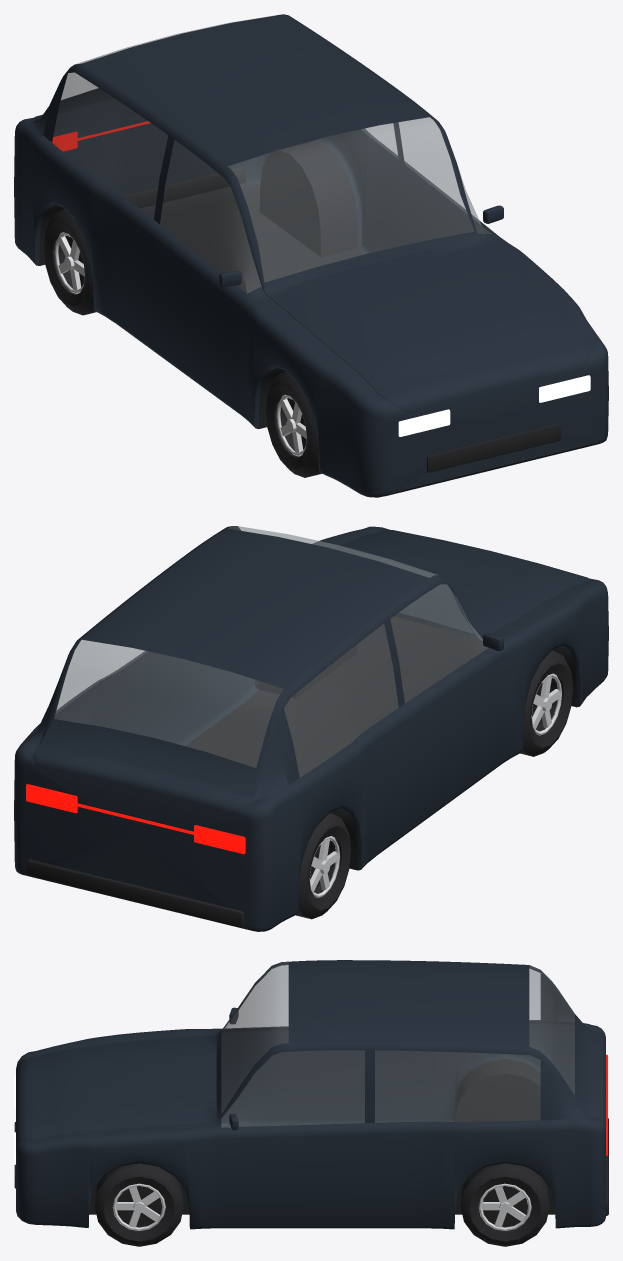
3 renders of one model, top to bottom at view 1: azimuth 30°, elevation 25°; view 2: azimuth 150°, elevation 25°; view 3: azimuth 270°, elevation 25°, orthographic. The views are drawn at different scales.
Parts seen in each view (by area): view 1: hatch, glass, wheel_fr, wheel_rr, headlights; view 2: hatch, glass, wheel_rr, wheel_fr, taillights; view 3: hatch, glass, wheel_rl, wheel_fl.
Boxes of the visible parts, <box> form: hatch: <box>14,14,608,497</box>; glass: <box>52,15,490,293</box>; wheel_fr: <box>265,371,321,477</box>; wheel_rr: <box>43,209,96,315</box>; headlights: <box>398,375,590,436</box>; hatch: <box>14,526,608,931</box>; glass: <box>54,526,487,777</box>; wheel_rr: <box>296,813,351,919</box>; wheel_fr: <box>520,650,573,756</box>; taillights: <box>26,784,245,854</box>; hatch: <box>14,960,608,1229</box>; glass: <box>221,962,574,1127</box>; wheel_rl: <box>460,1163,549,1246</box>; wheel_fl: <box>94,1163,183,1246</box>.
Size of the model in its own units: 1.87 by 1.53 by 4.13.
